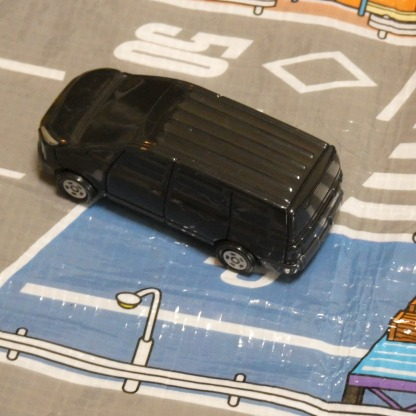car: (36, 65, 344, 262)
